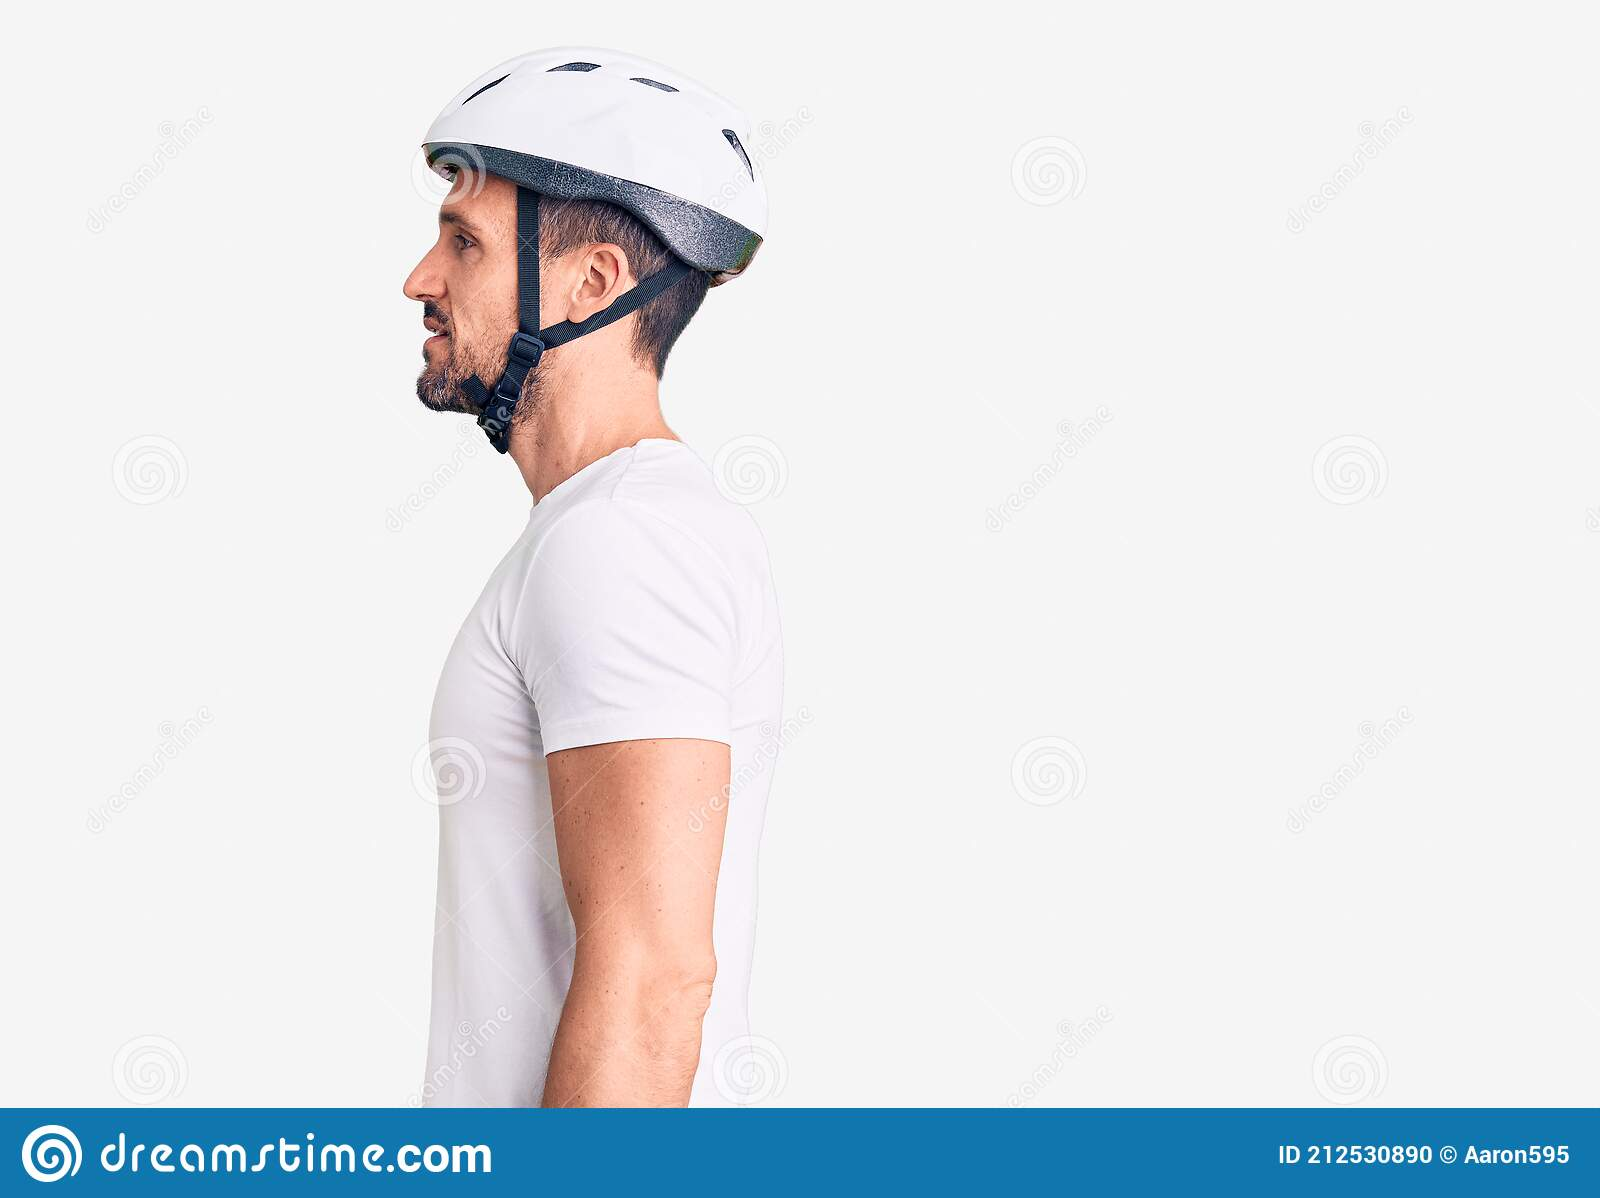helmet: (401, 48, 766, 415)
